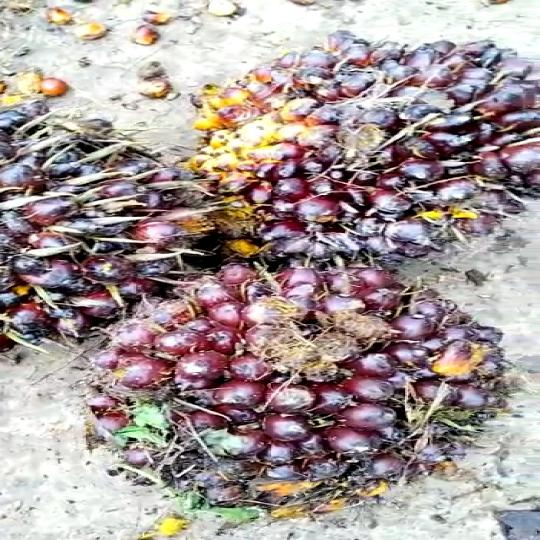kurang masak: (80, 259, 523, 519), (163, 22, 540, 280), (0, 106, 205, 342)
